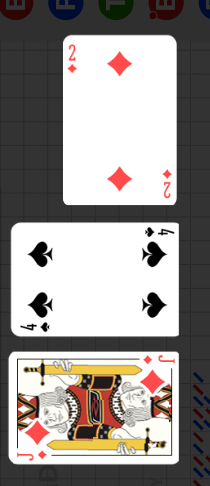2D: (67, 43, 79, 75)
4S: (19, 320, 53, 333), (143, 226, 176, 239)
